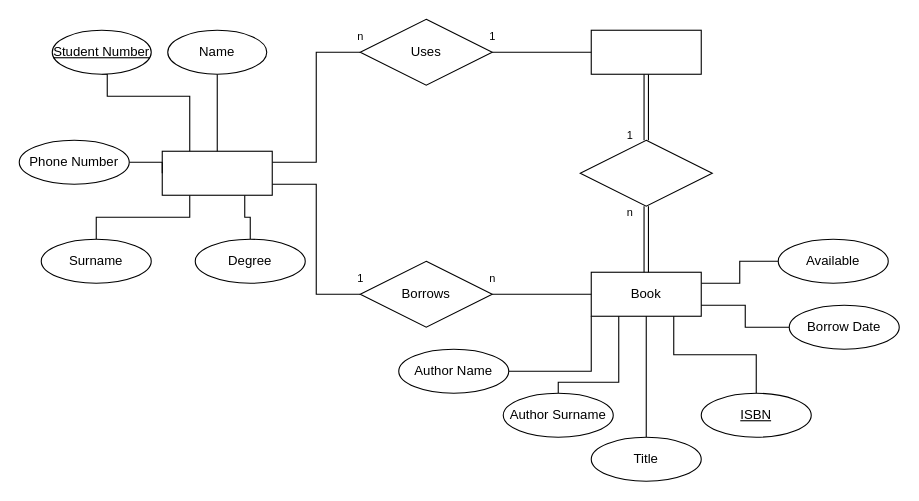
Image size: 919x501. Some labels were removed from this diagram. Here are the shapes that lost their labels. From the top down, the centre of each, then its label:
[645,51]: Library
[216,172]: Student
[645,172]: Owns
